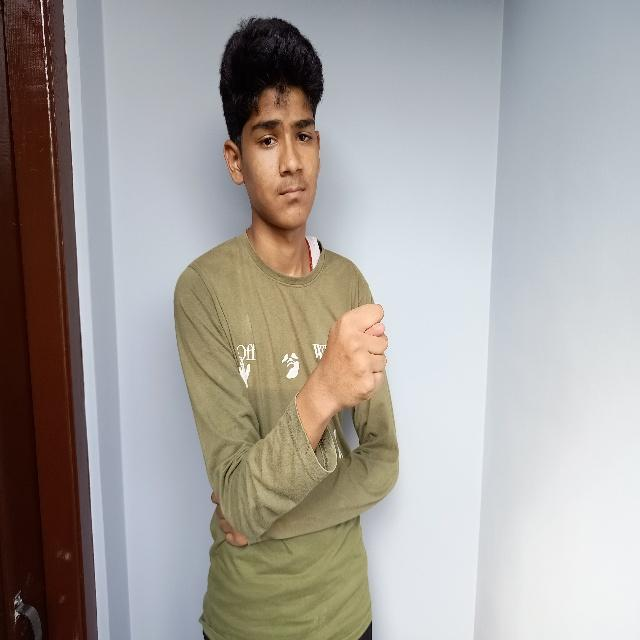Dulya: (311, 300, 401, 420)
